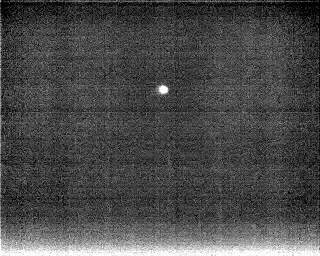AIRPLANE: (156, 82, 171, 97)
